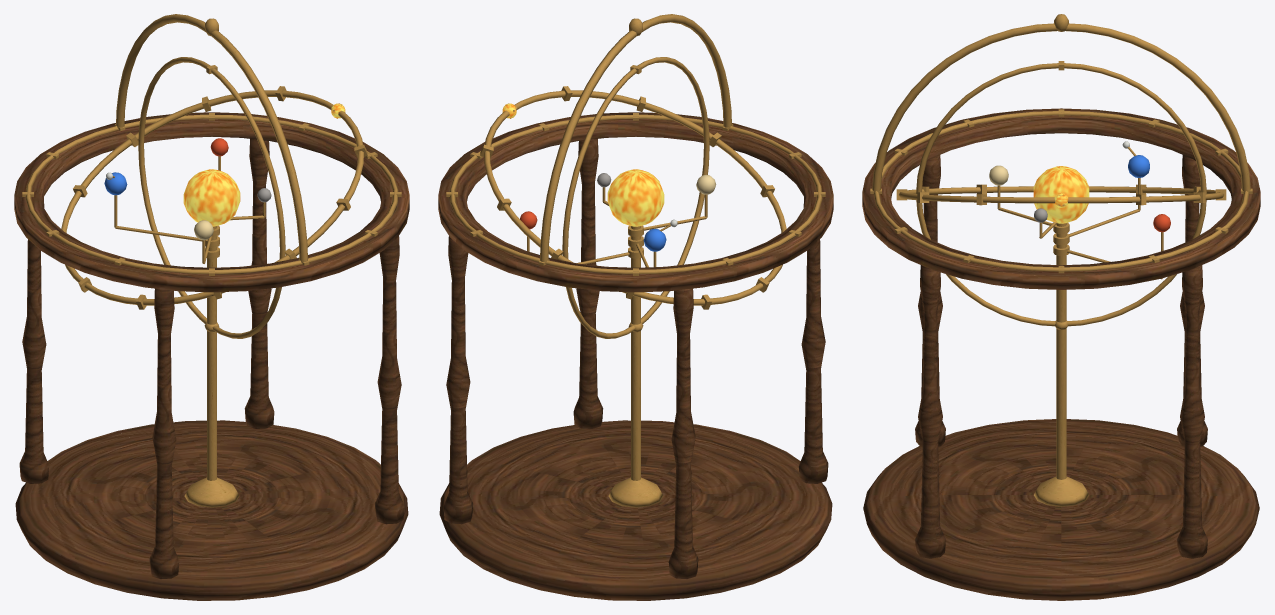
File: prop_orrery.glb
The picture shows the model from 3 angles, left to right: view 1: azimuth 30°, elevation 25°; view 2: azimuth 150°, elevation 25°; view 3: azimuth 270°, elevation 25°; orthographic projection.
Visible parts, largest first — view 1: prop (×5); view 2: prop (×6); view 3: prop (×6).
Boxes of the visible parts, x1,y1,x2,y2 form: prop (×5): (14,14,409,600); prop (×6): (438,14,833,600); prop (×6): (862,14,1260,600).
Size of the model in its own units: 0.824 by 1.15 by 0.824.
Materials: 15 (10 with a texture image).
